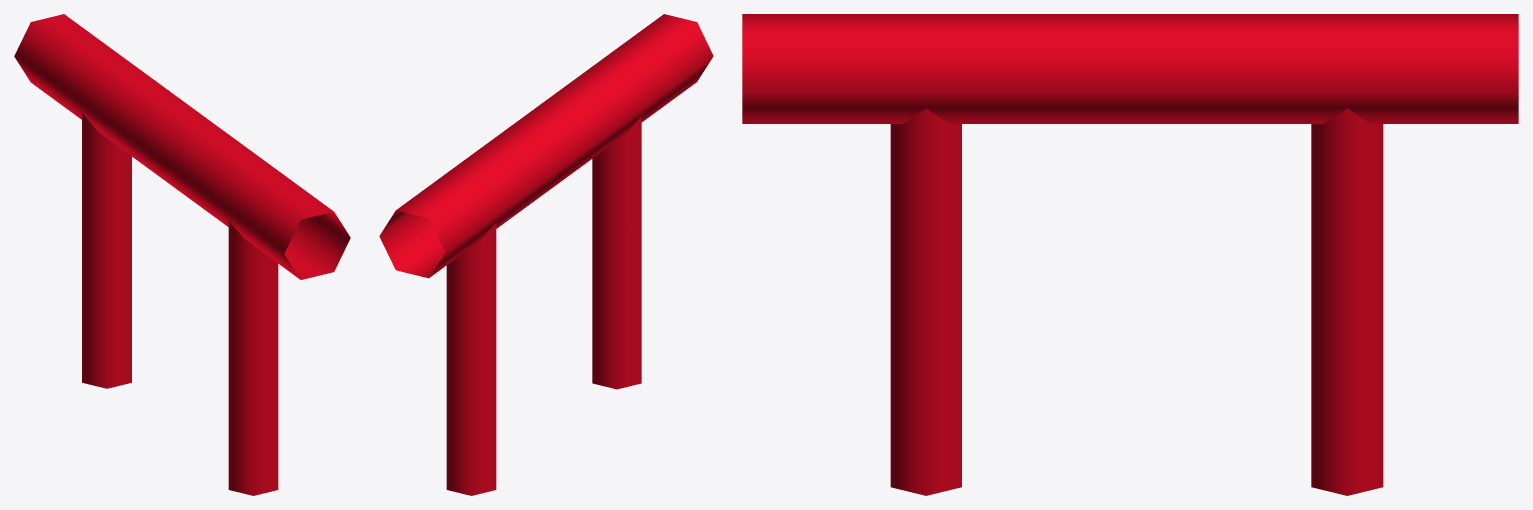
Rendered from V2_Pipemetal3.fbx.
3 renders of one model, left to right at view 1: azimuth 30°, elevation 25°; view 2: azimuth 150°, elevation 25°; view 3: azimuth 270°, elevation 25°, orthographic. The views are drawn at different scales.
Parts seen in each view (by area): view 1: V2_Pipemetal3; view 2: V2_Pipemetal3; view 3: V2_Pipemetal3.
Part boxes in pixels (x1=…): V2_Pipemetal3: x1=14, y1=14, x2=350, y2=495; V2_Pipemetal3: x1=379, y1=14, x2=713, y2=495; V2_Pipemetal3: x1=742, y1=14, x2=1518, y2=495.
Size of the model in its own units: 0.2304 by 1.04 by 1.62.
